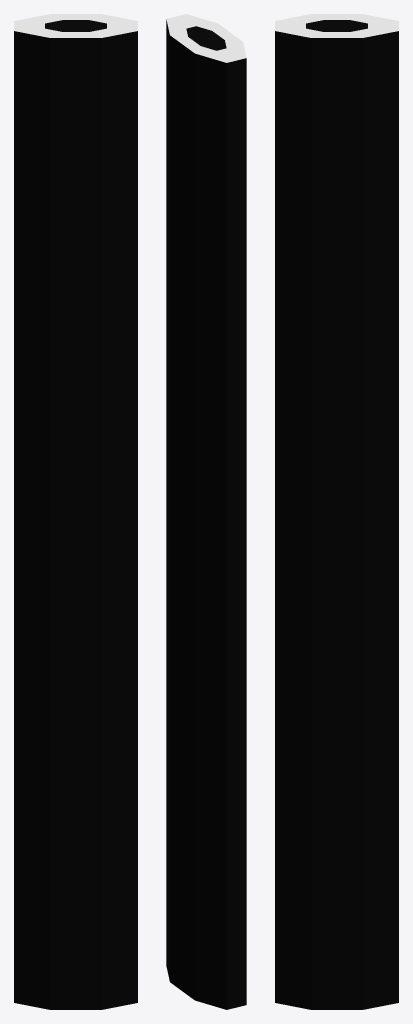
Rendered from pencil05.gltf.
The picture shows the model from 3 angles, left to right: view 1: azimuth 90°, elevation 25°; view 2: azimuth 210°, elevation 25°; view 3: azimuth 270°, elevation 25°; orthographic projection. The views are drawn at different scales.
Parts seen in each view (by area): view 1: Cylinder; view 2: Cylinder; view 3: Cylinder.
Boxes of the visible parts, <box> form: Cylinder: <box>14,14,137,1009</box>; Cylinder: <box>166,14,246,1009</box>; Cylinder: <box>275,14,398,1009</box>.
Size of the model in its own units: 0.00656 by 0.1233 by 0.0142.
1 material, 1 textured.
